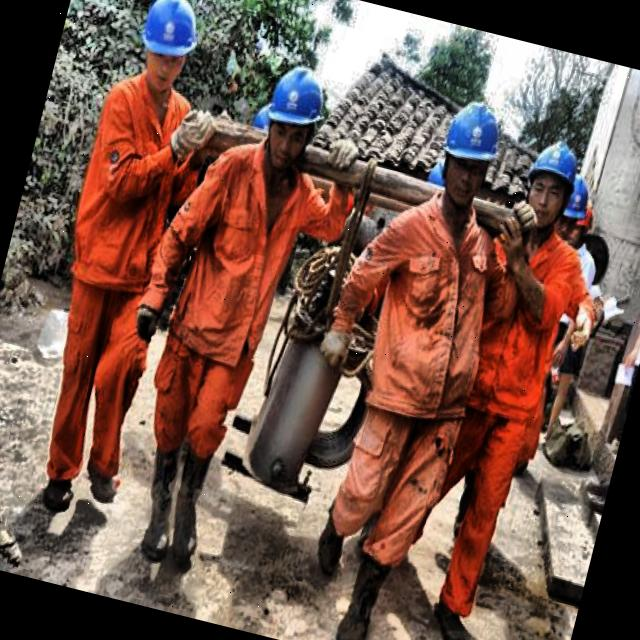helmet: (246, 52, 341, 189), (422, 87, 514, 220), (512, 127, 593, 240), (125, 0, 212, 102), (547, 173, 594, 252), (563, 192, 602, 255)
